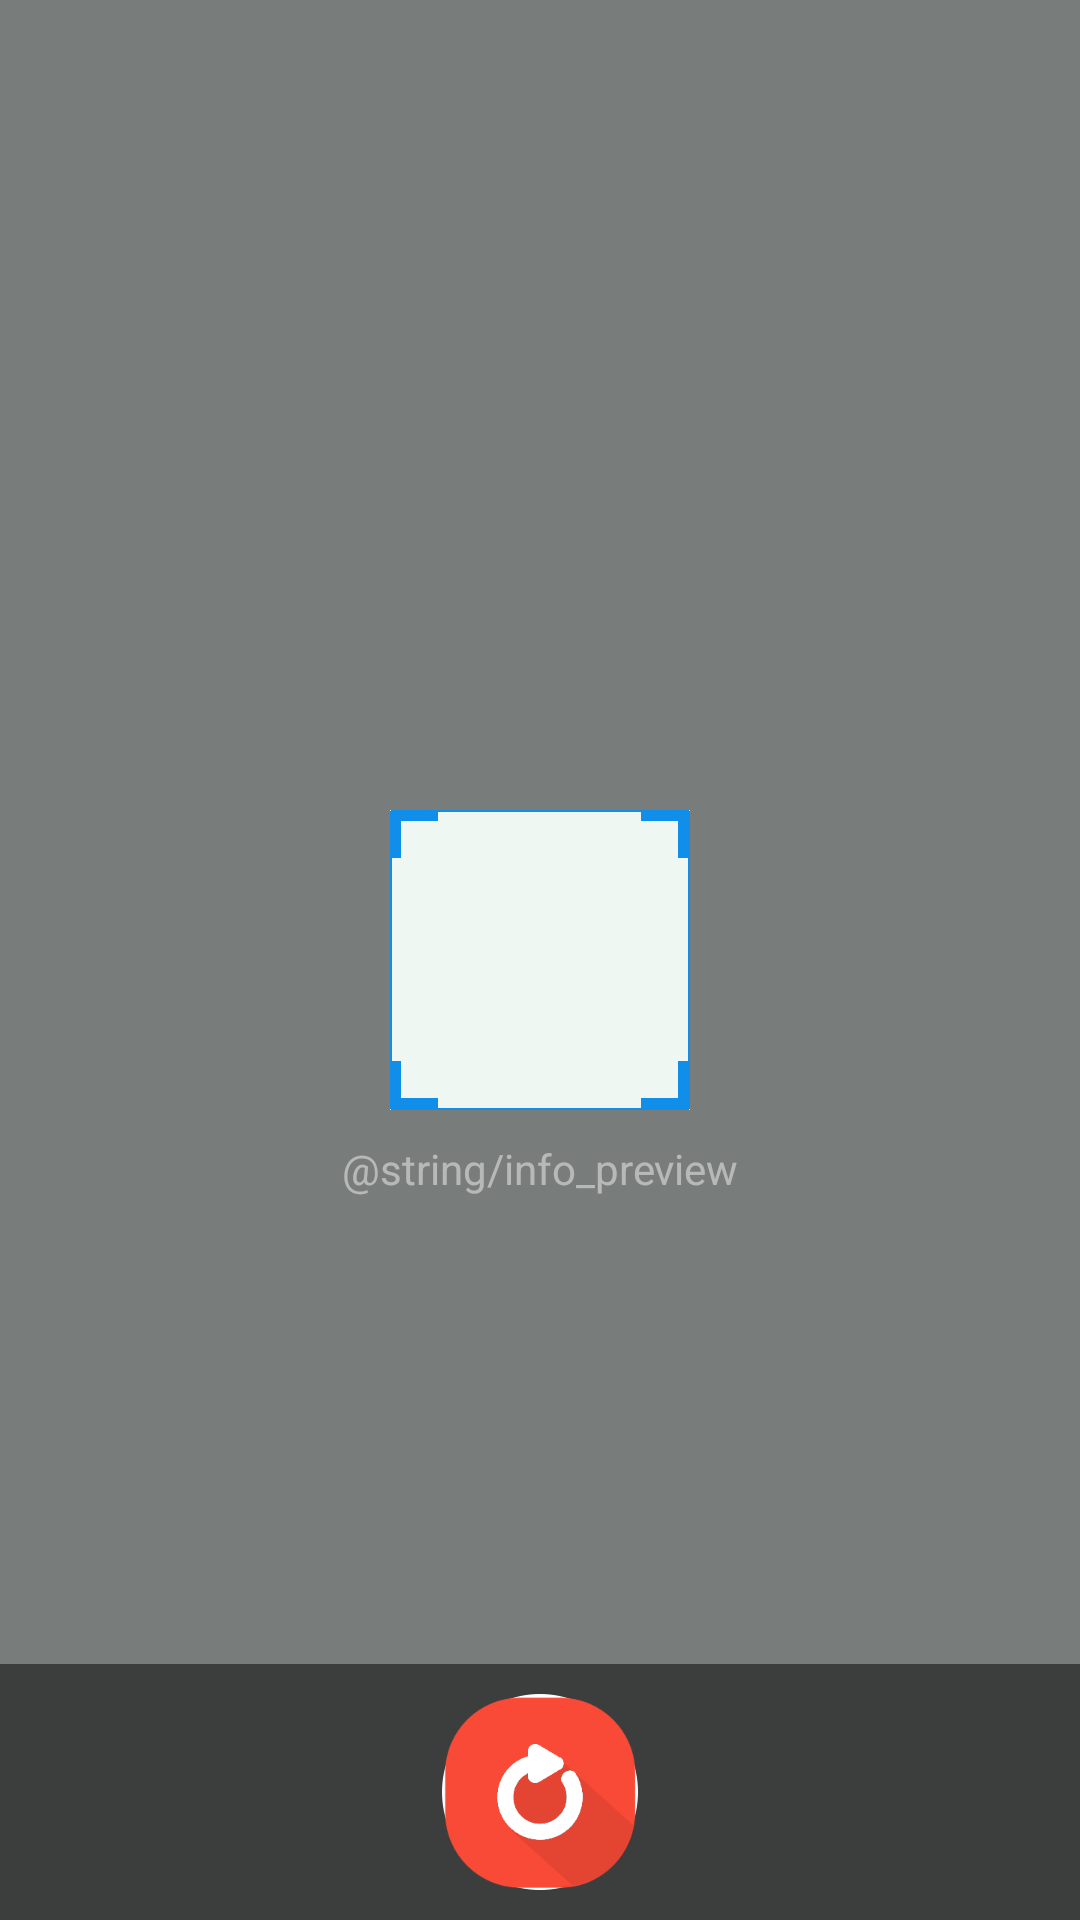

Locate icon controls on the screen. Image size 1080 x 1920, boxes as (x1, y1, x2, y2).
scan: (390, 810, 690, 1110)
